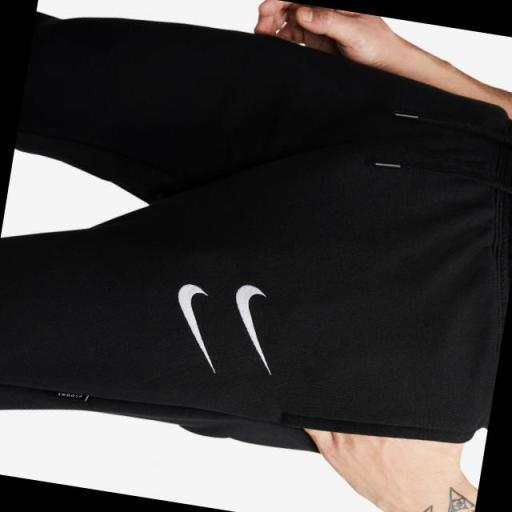Nike: (218, 282, 286, 380)
